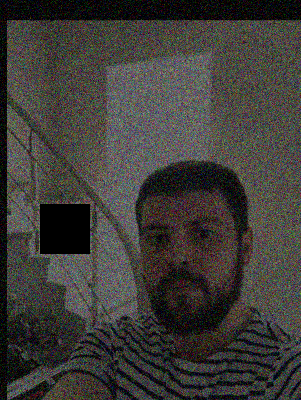without_mask: (140, 211, 235, 336)
